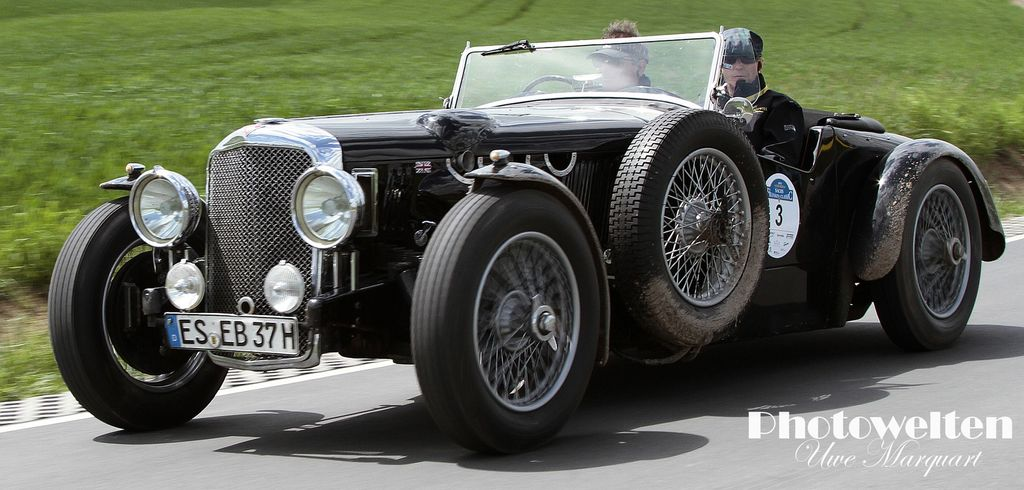cars: (47, 23, 999, 443)
